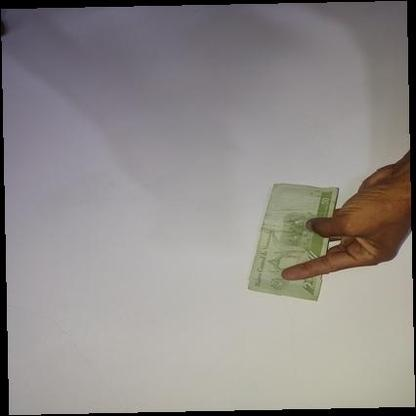fifty-back-vef: (246, 183, 339, 302)
